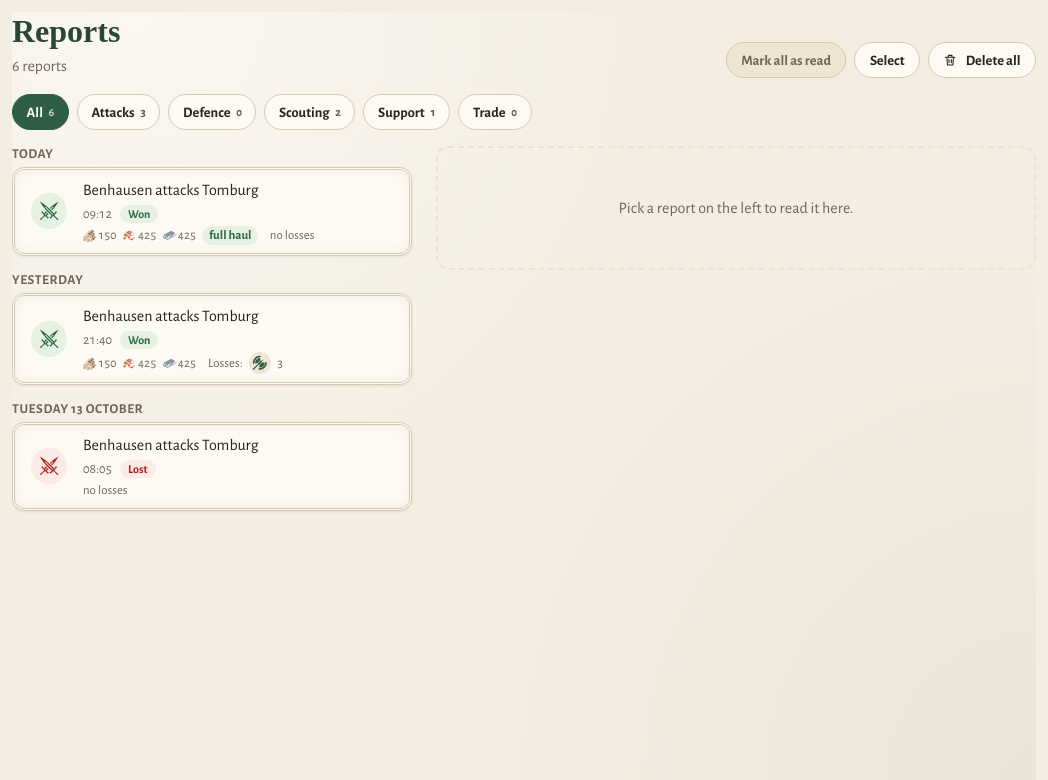
Test: ReportsPage › chooses all lines of the page, then none
Click the button "Select" at (887, 60), box [854,42,920,78]
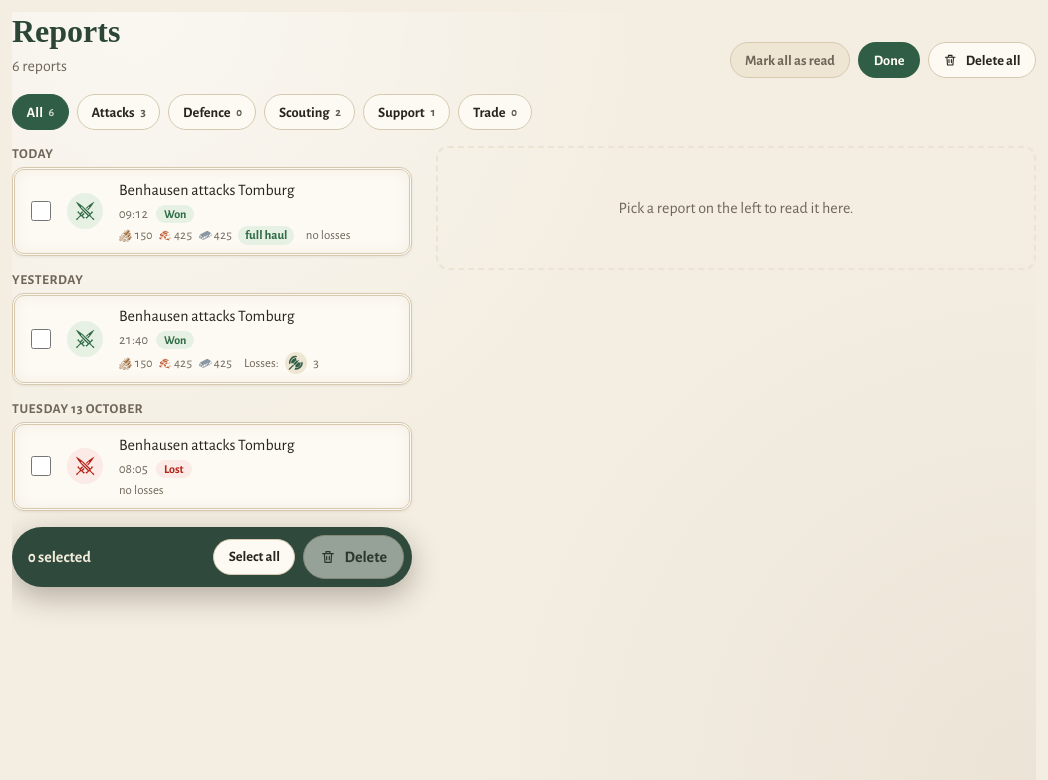
Expected: the button "Delete" is disabled, [304,535,404,579]
Click the button "Select all" at (254, 557), box [213,539,296,575]
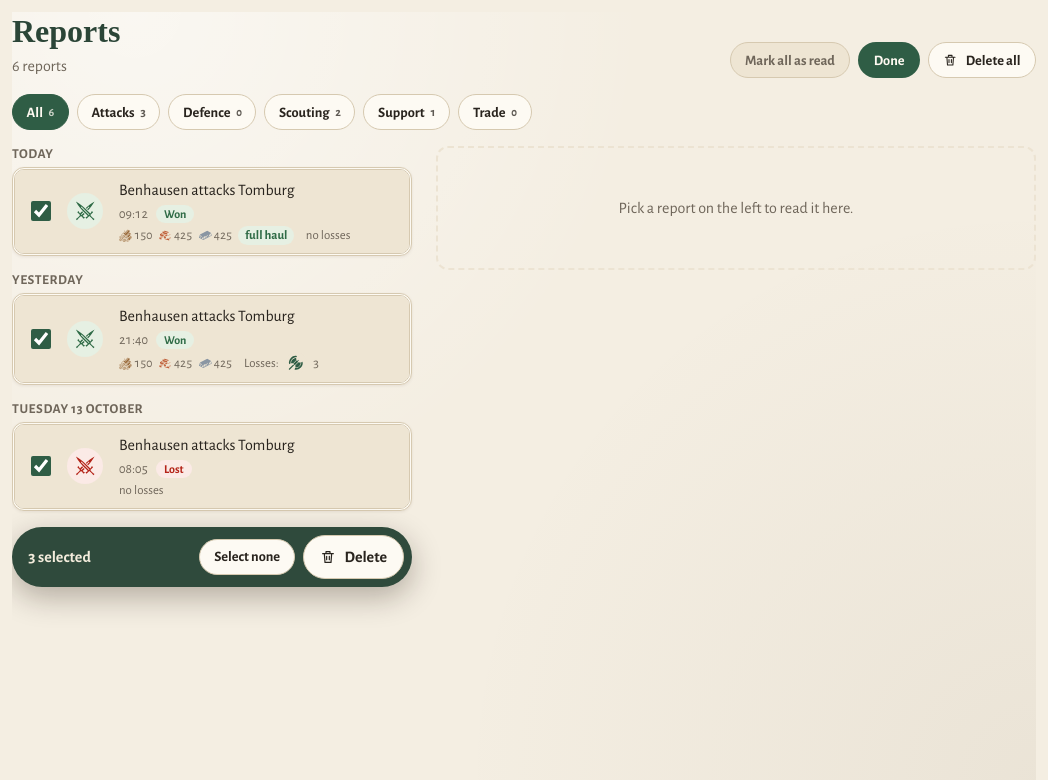
Expected: the message reads "3 selected", [28,549,91,565]
Click the button "Select none" at (247, 557), box [199,539,296,575]
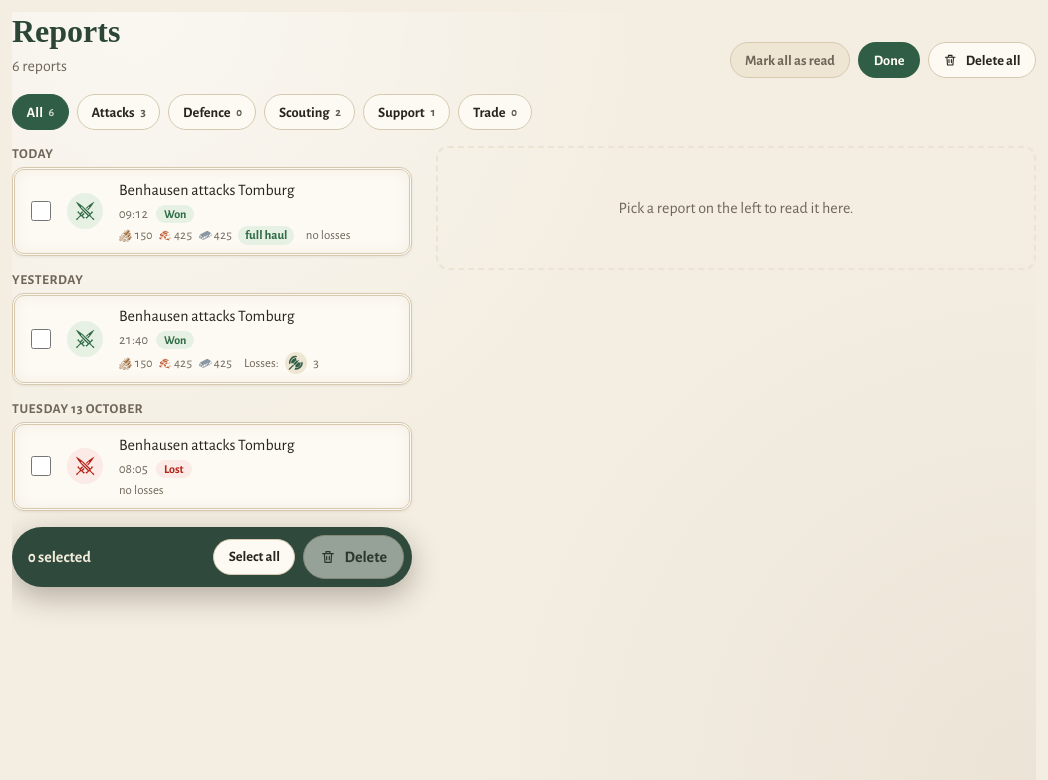
Expected: the message reads "0 selected", [28,549,91,565]
Click the button "Done" at (889, 60), box [858,42,920,78]
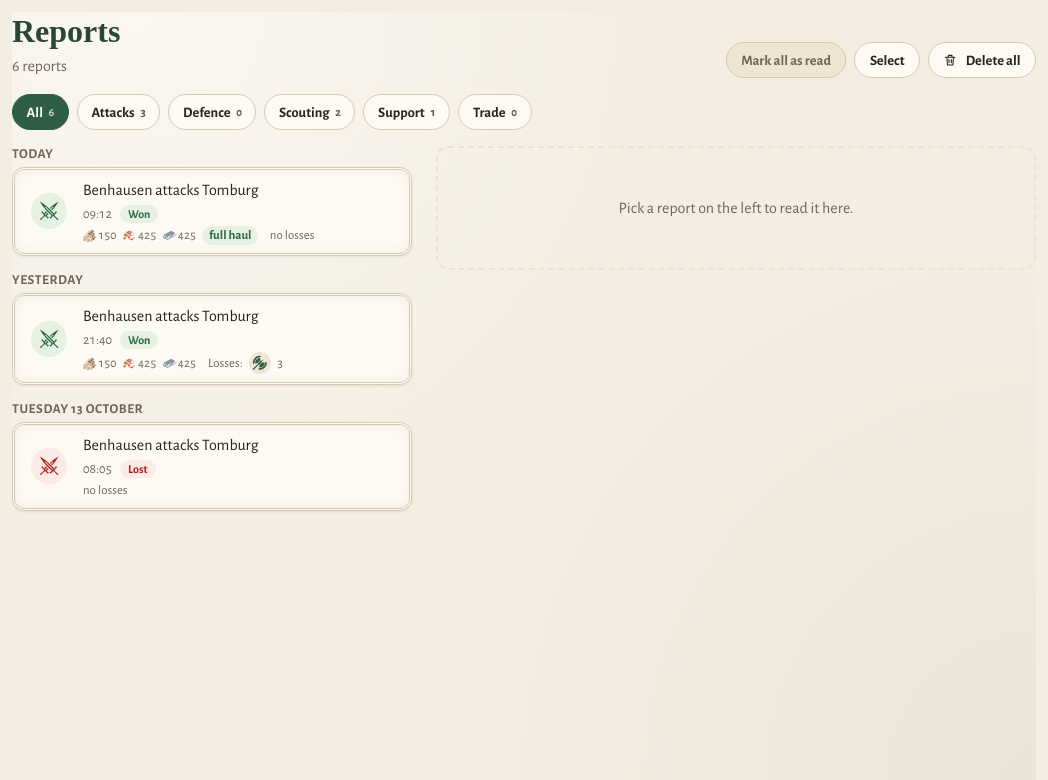
Expected: no checkboxes are shown
